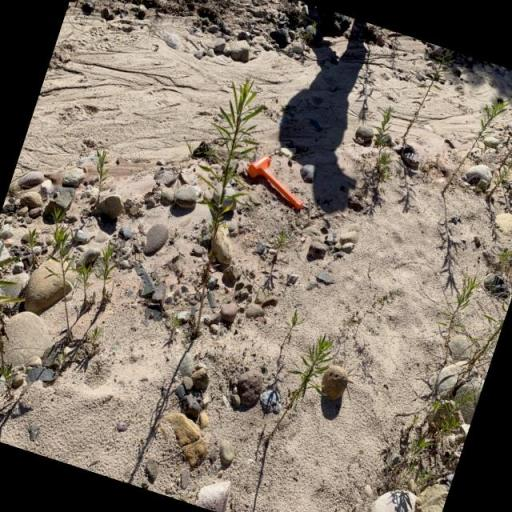mallet: (241, 150, 314, 212)
